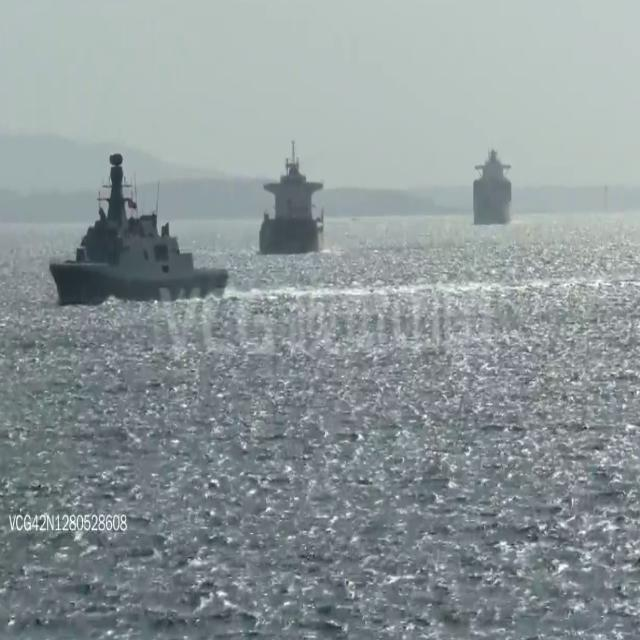houseboat: (45, 150, 228, 301), (254, 140, 324, 256)
navalvessels: (472, 141, 514, 222)
